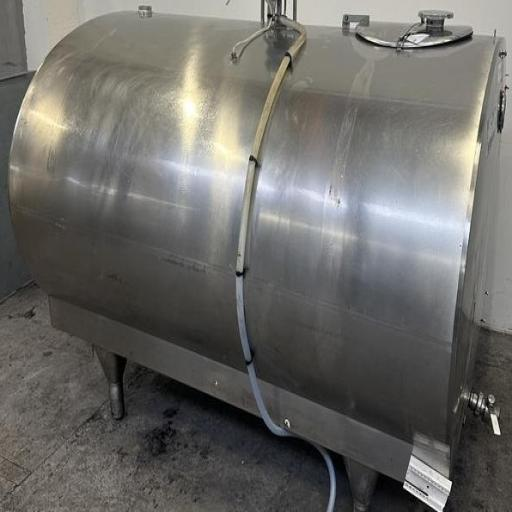silo: (5, 5, 508, 508)
